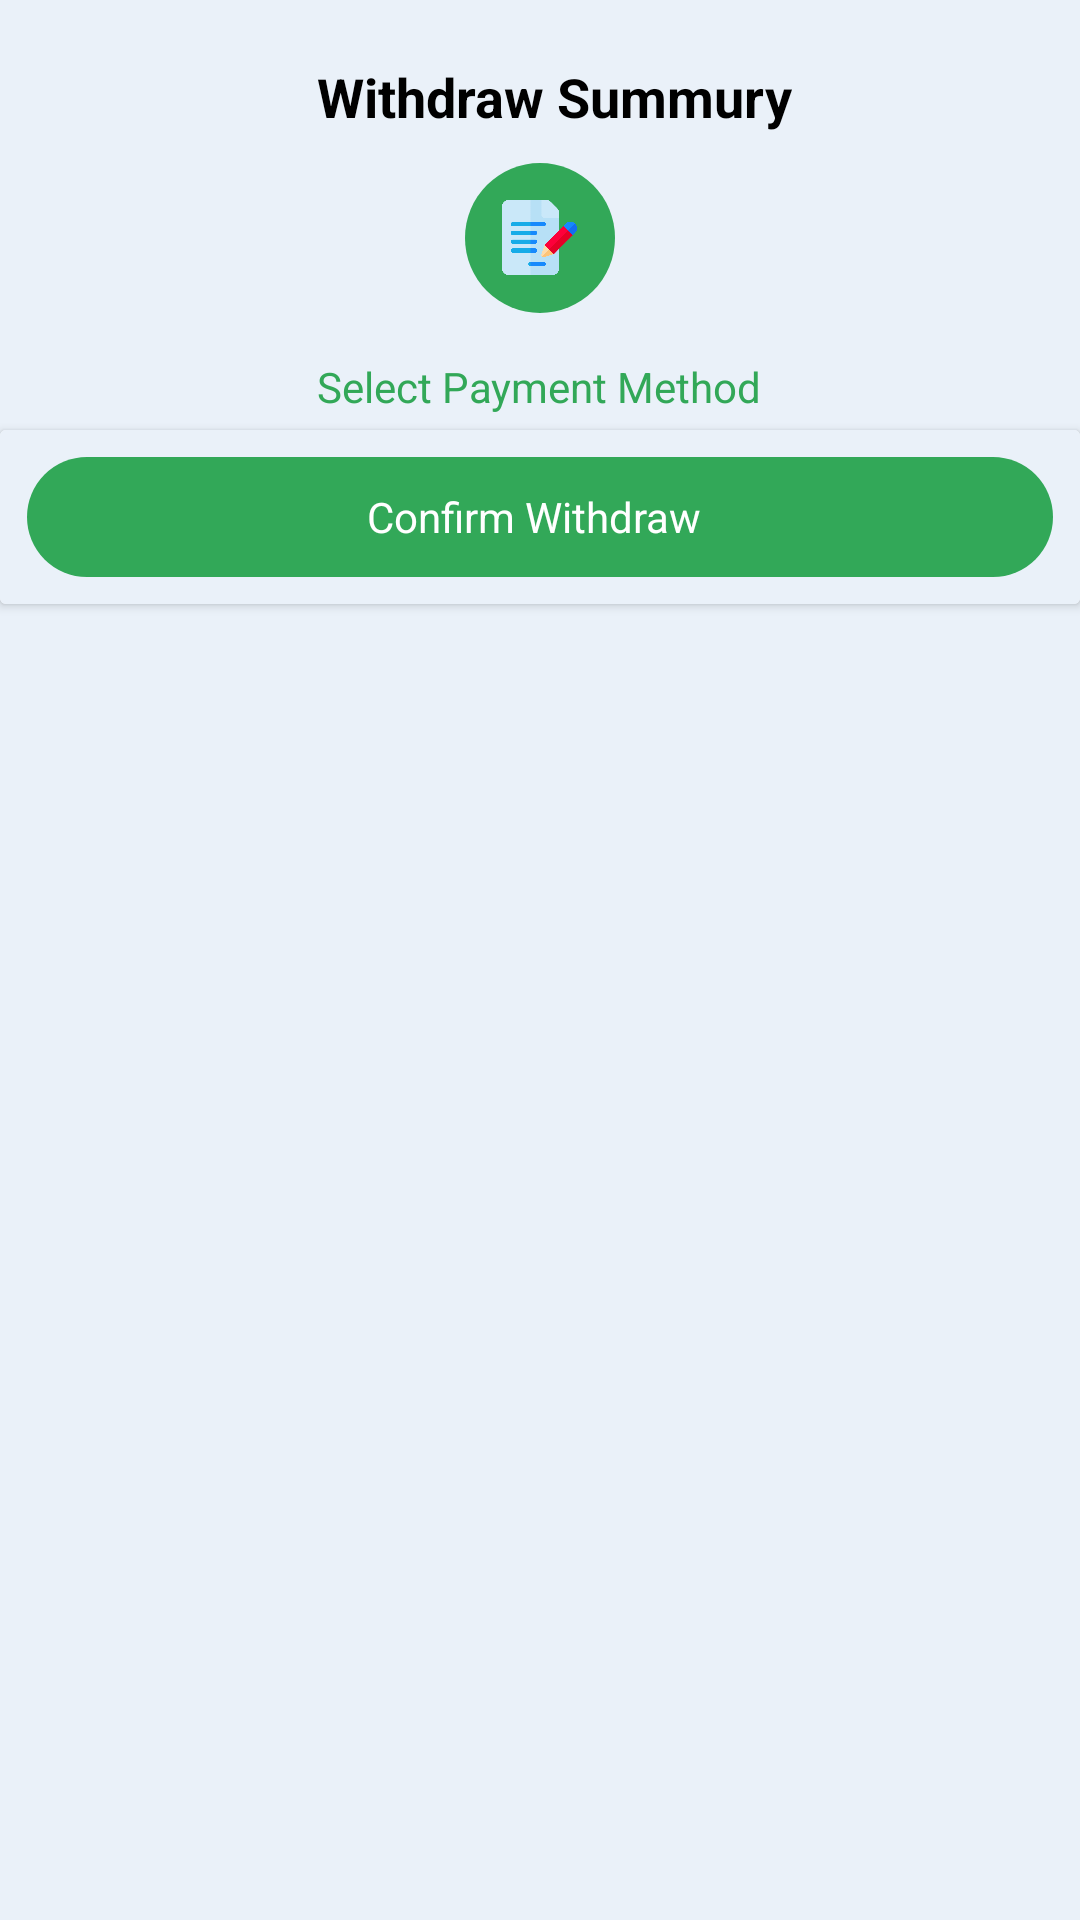

Locate icon controls on the screen. Image size 1080px×1920px, boxes as (x1, y1, x2, y2).
contract: (502, 200, 577, 275)
